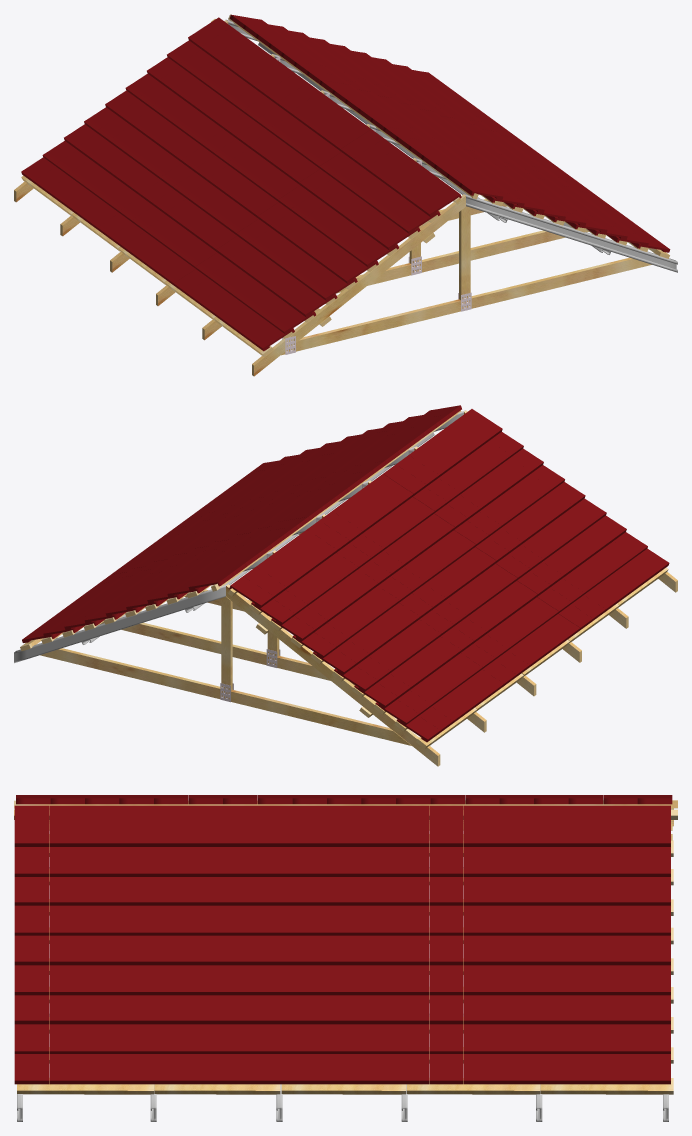
The model's file is Purlins & Battens (1).glb.
The picture shows the model from 3 angles, top to bottom: view 1: azimuth 30°, elevation 25°; view 2: azimuth 150°, elevation 25°; view 3: azimuth 270°, elevation 25°; orthographic projection. The views are drawn at different scales.
Visible parts, largest first — view 1: Battentile.005, Battentile.001, TRUSS.015, WoodRafterRight, SteelRafterLeft.001, Batten.001, Batten.011, Batten.004, RafterLeft.002; view 2: Battentile.005, Battentile.001, TRUSS.015, WoodRafterRight, SteelRafterLeft.001, Batten.001, Batten.004, Batten.011, RafterLeft.002; view 3: Battentile.001, Batten.004, Battentile.005, Batten.010, SteelRafterLeft.001.
Boxes of the visible parts, box(x1,y1,x2,y2) form: Battentile.005: box(21, 17, 461, 351); Battentile.001: box(229, 14, 670, 252); TRUSS.015: box(275, 57, 651, 355); WoodRafterRight: box(14, 20, 465, 376); SteelRafterLeft.001: box(226, 19, 677, 272); Batten.001: box(21, 175, 440, 356); Batten.011: box(228, 14, 478, 199); Batten.004: box(481, 195, 669, 258); RafterLeft.002: box(258, 42, 507, 222); Battentile.005: box(229, 409, 669, 742); Battentile.001: box(22, 405, 461, 642); TRUSS.015: box(40, 450, 413, 745); WoodRafterRight: box(226, 410, 677, 766); SteelRafterLeft.001: box(14, 410, 465, 663); Batten.001: box(249, 567, 668, 748); Batten.004: box(20, 585, 210, 650); Batten.011: box(211, 410, 461, 591); RafterLeft.002: box(185, 432, 434, 612); Battentile.001: box(14, 805, 670, 1084); Batten.004: box(17, 840, 673, 1094); Battentile.005: box(16, 795, 672, 804); Batten.010: box(14, 800, 677, 808); SteelRafterLeft.001: box(17, 1084, 668, 1121).
Bounding box in the file's own units: 5.19 × 1.55 × 5.18.
Materials: 4 (1 with a texture image).
